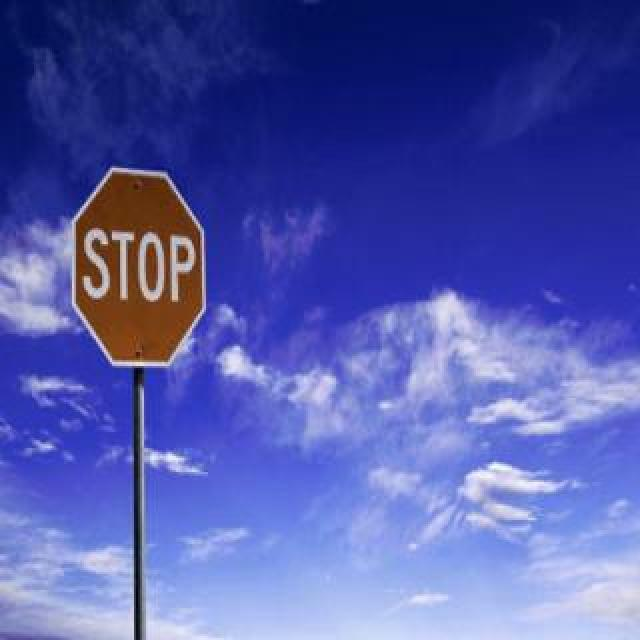stop: (72, 160, 208, 364)
